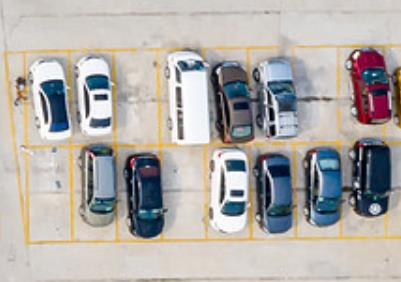car: (160, 48, 212, 146), (24, 57, 74, 141), (124, 151, 169, 239), (253, 57, 300, 141), (344, 46, 392, 127), (206, 146, 250, 234), (212, 59, 255, 146), (72, 54, 117, 137), (77, 143, 120, 228), (254, 151, 297, 234), (303, 144, 345, 228), (348, 139, 393, 217)
